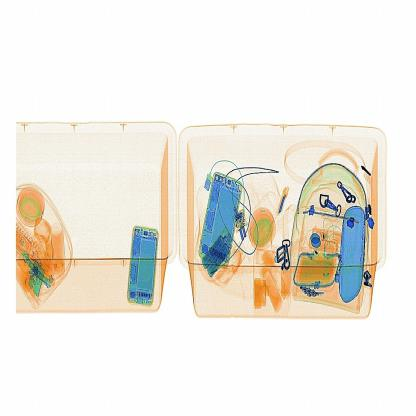pliers: (275, 177, 295, 226)
